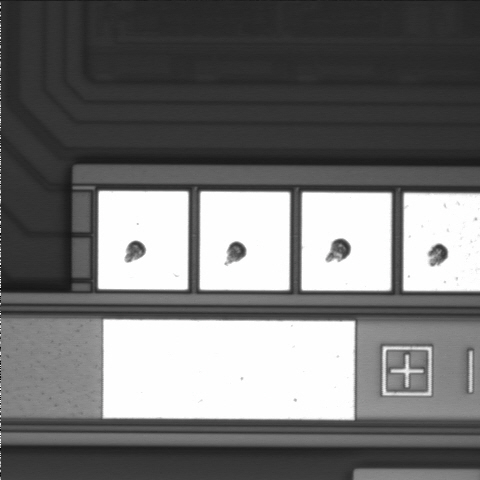pad: (98, 191, 188, 290), (200, 192, 290, 290), (302, 192, 391, 291)
